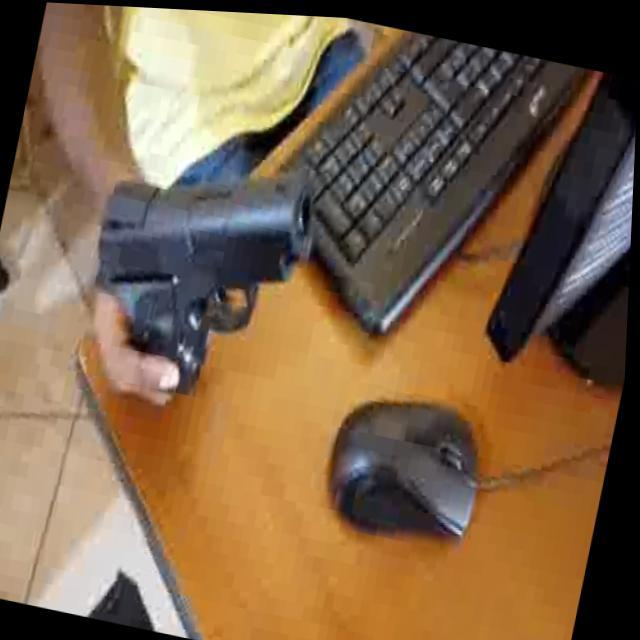weapon: (72, 123, 326, 414)
